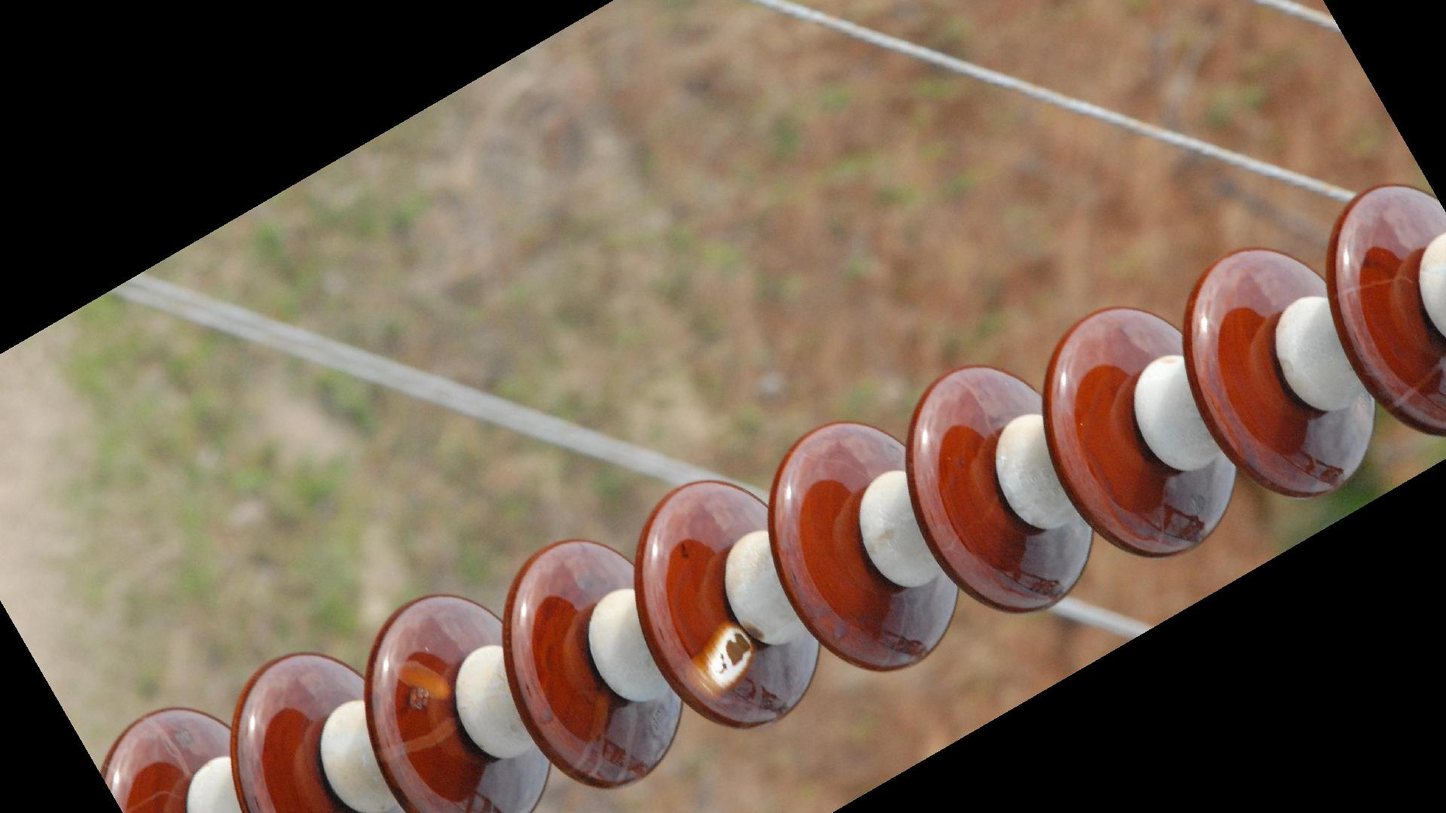insulator: (93, 176, 1446, 813)
insulator_flashover: (680, 621, 755, 698), (386, 650, 459, 711)
